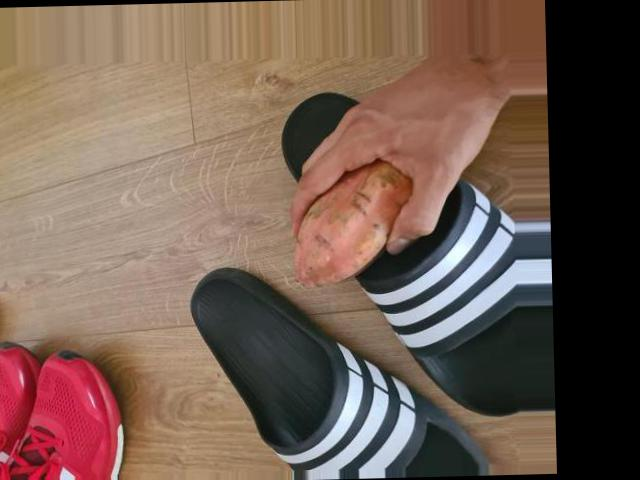sweet_potato: (289, 165, 418, 296)
